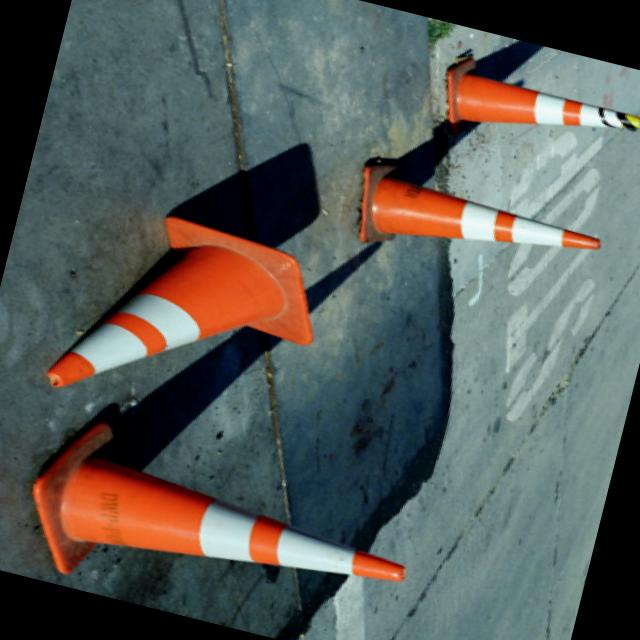cone: (15, 405, 446, 640), (42, 187, 344, 453), (334, 132, 618, 312), (424, 49, 640, 180)
